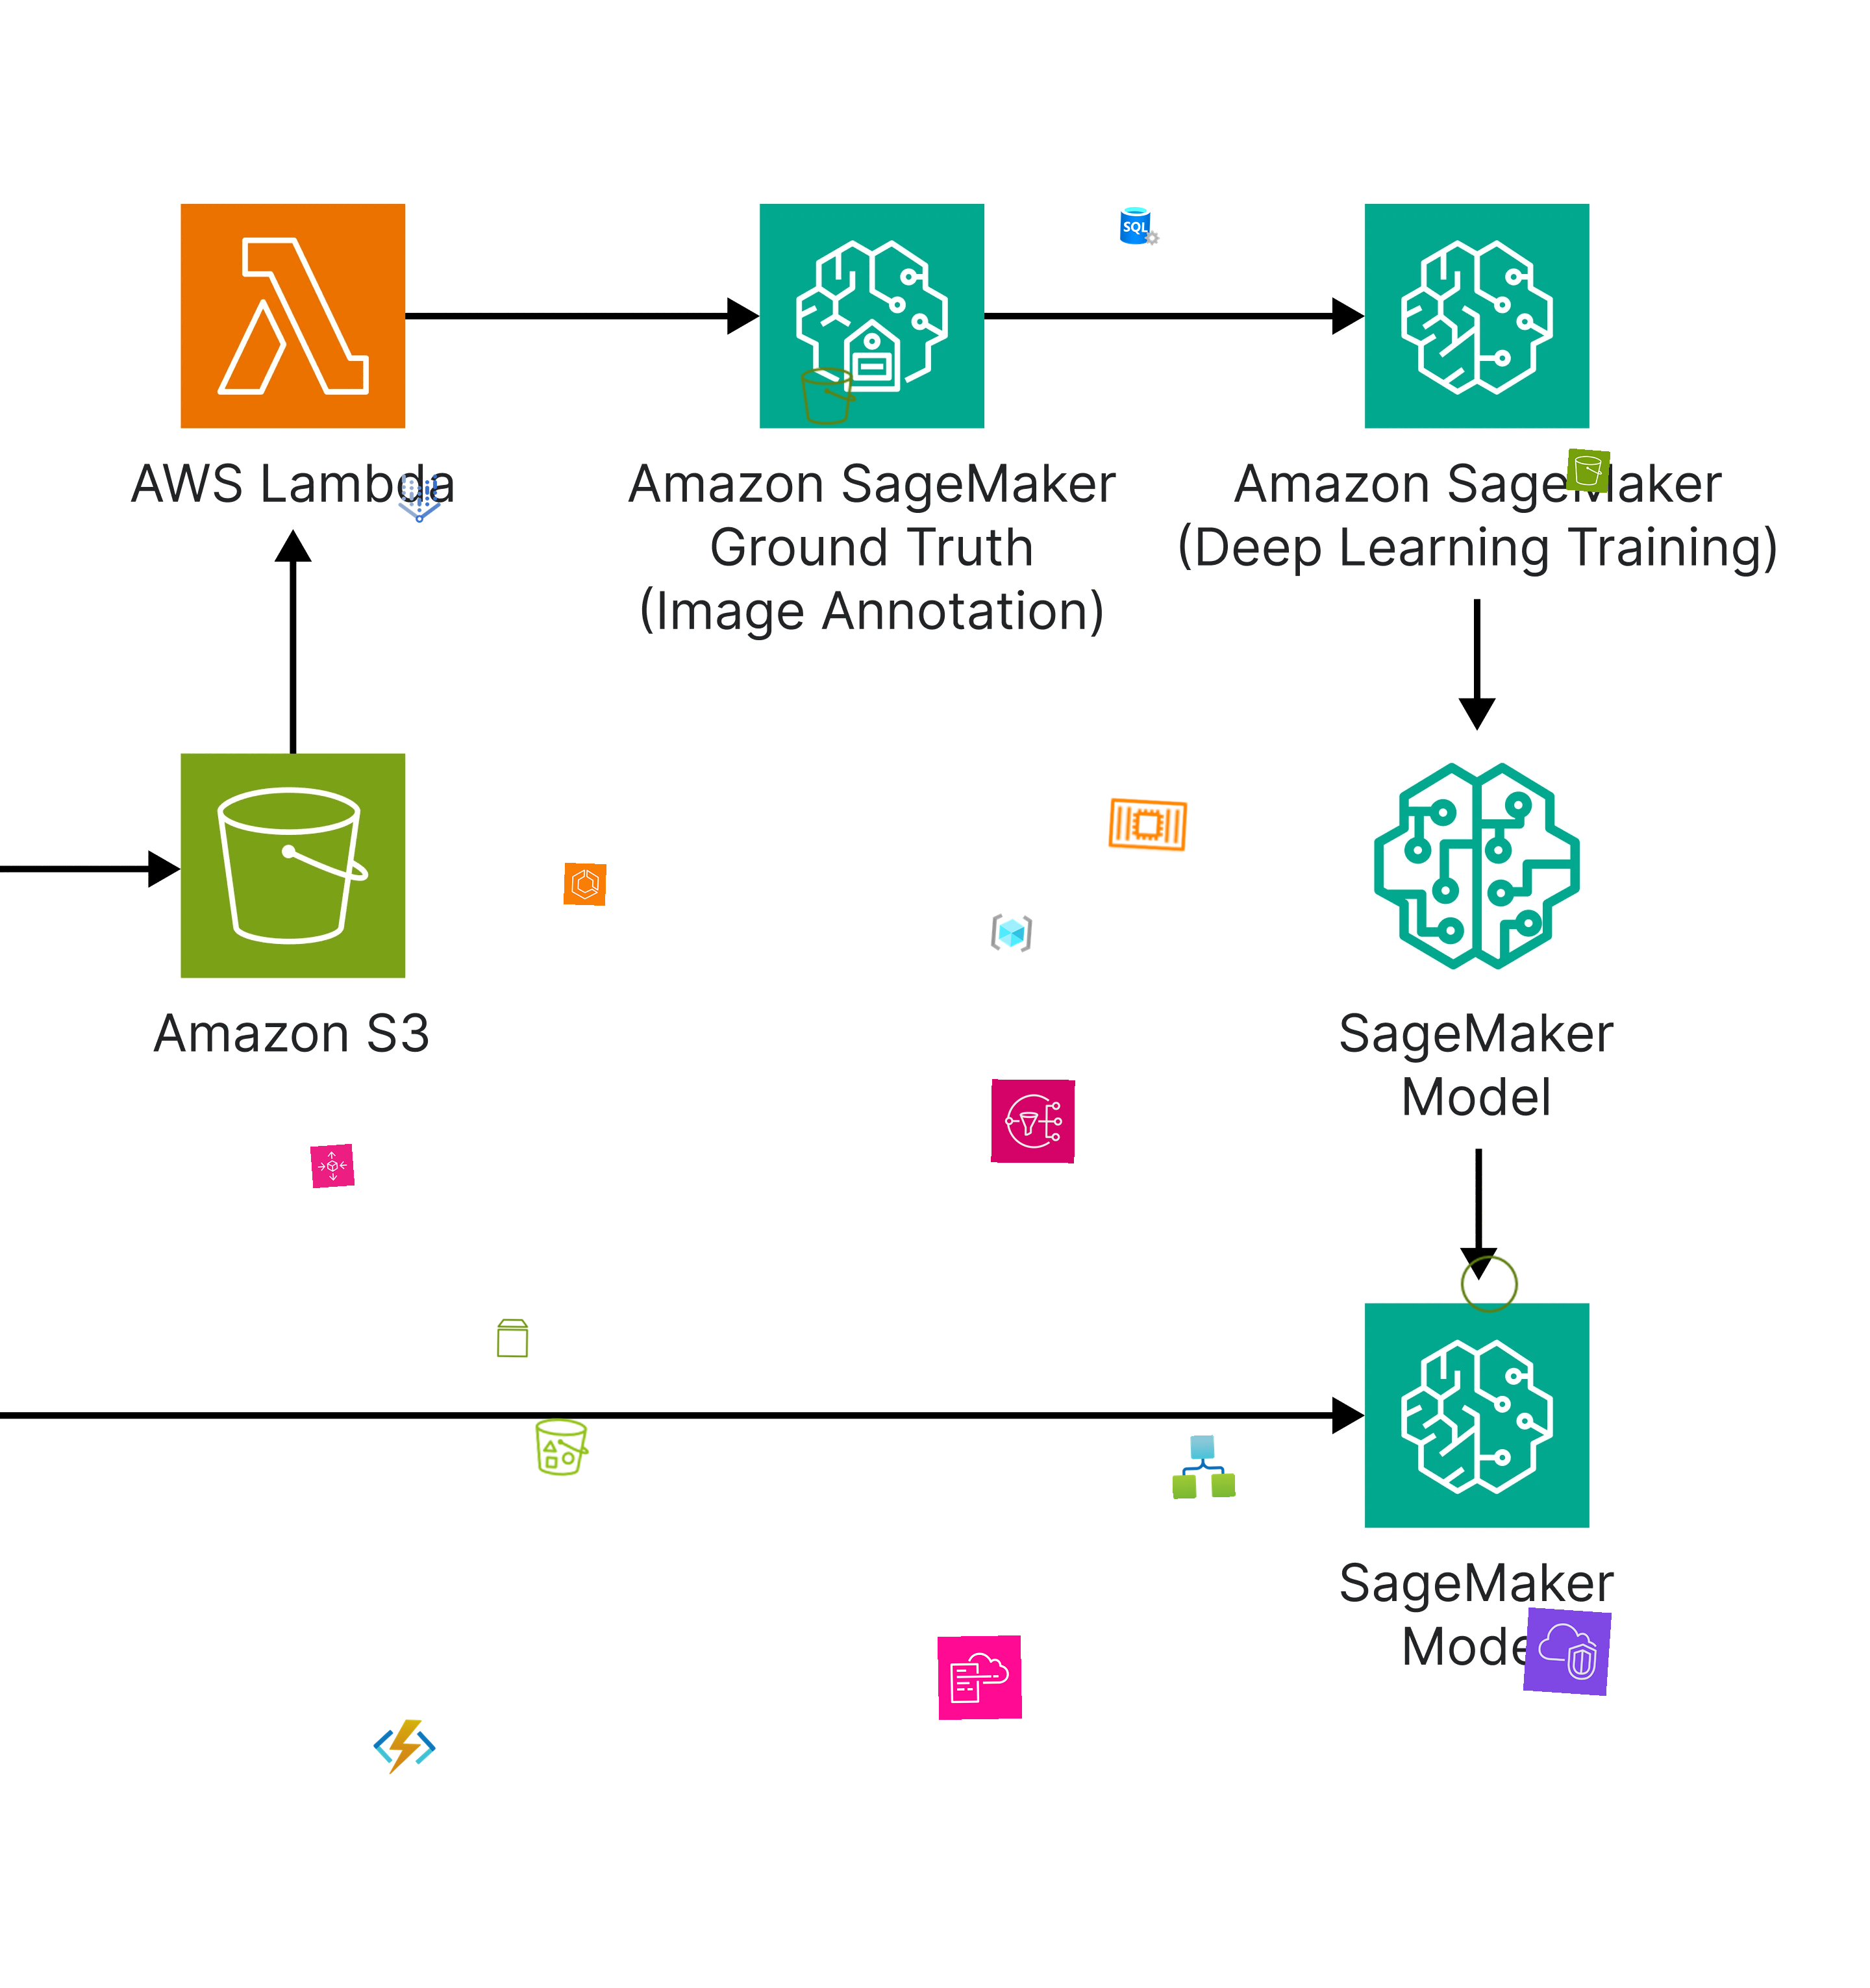aws_amazon_elastic_container_service: (562, 863, 606, 907)
aws_amazon_simple_notification_service: (991, 1079, 1076, 1164)
aws_amazon_simple_storage_service: (1566, 448, 1612, 494)
aws_amazon_virtual_private_cloud: (1522, 1607, 1612, 1696)
aws_auto_scaling: (309, 1143, 355, 1188)
aws_cloudformation: (937, 1635, 1023, 1721)
aws_elastic_block_store_volume: (492, 1317, 534, 1359)
aws_elastic_container_service_container_2: (1104, 780, 1192, 868)
aws_simple_storage_service_bucket: (796, 364, 861, 427)
aws_simple_storage_service_bucket_with_objects: (529, 1413, 594, 1480)
aws_simple_storage_service_object: (1457, 1253, 1522, 1317)
azure_function_apps: (371, 1714, 438, 1781)
azure_logic_apps: (1171, 1434, 1236, 1499)
azure_resource_groups: (989, 911, 1035, 956)
azure_sql_server: (1118, 204, 1162, 248)
gcp_vertex_ai: (388, 468, 452, 531)
